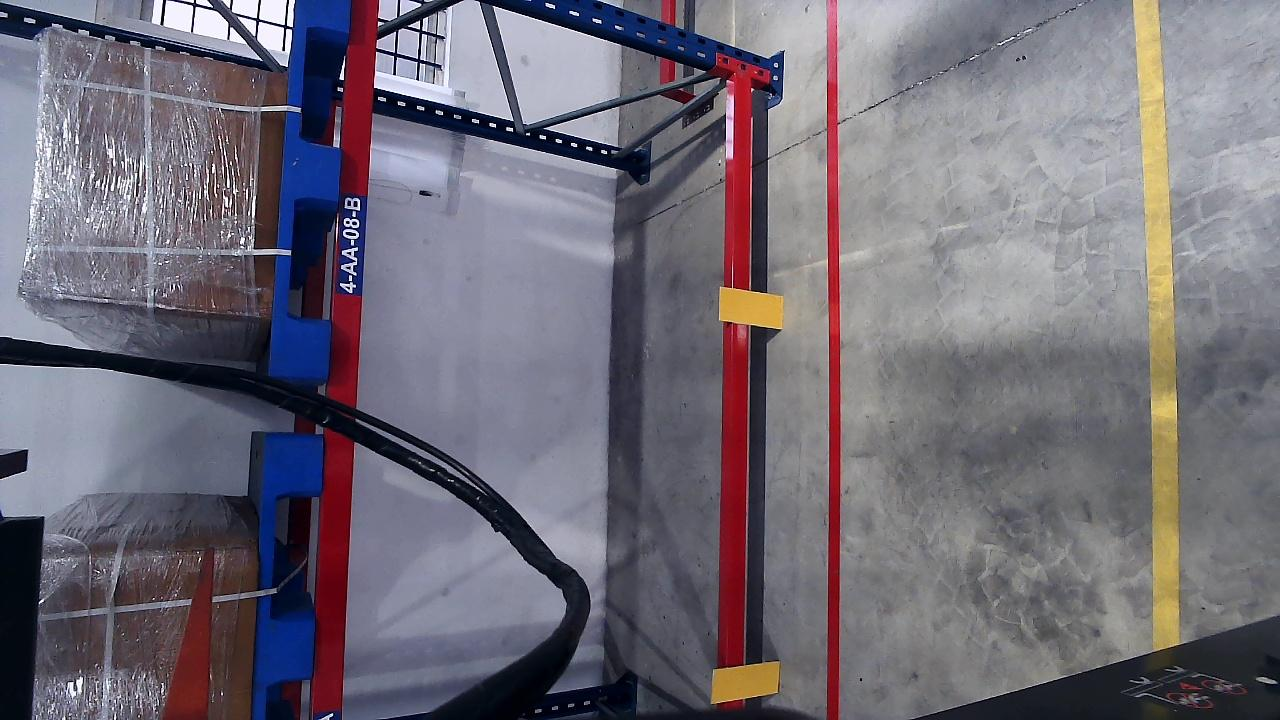h_rack: (320, 0, 383, 720), (724, 70, 758, 654)
orange_strip: (711, 660, 780, 702), (719, 287, 784, 329)
red_line: (822, 0, 844, 720)
small_pallet: (275, 0, 351, 379), (251, 433, 321, 720)
yellow_line: (1135, 0, 1181, 655)
